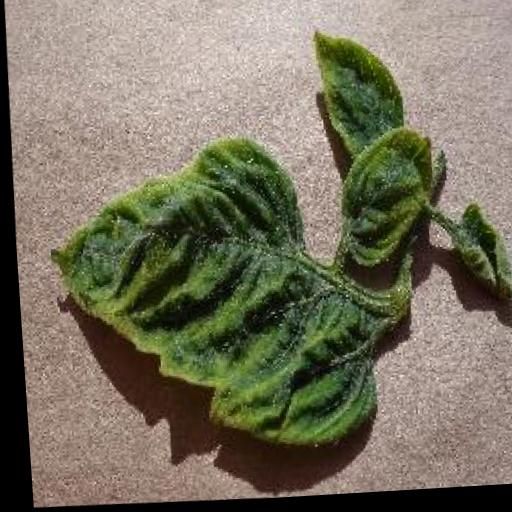Yellow Leaf Curl Virus: (39, 126, 379, 457), (324, 125, 443, 270)
